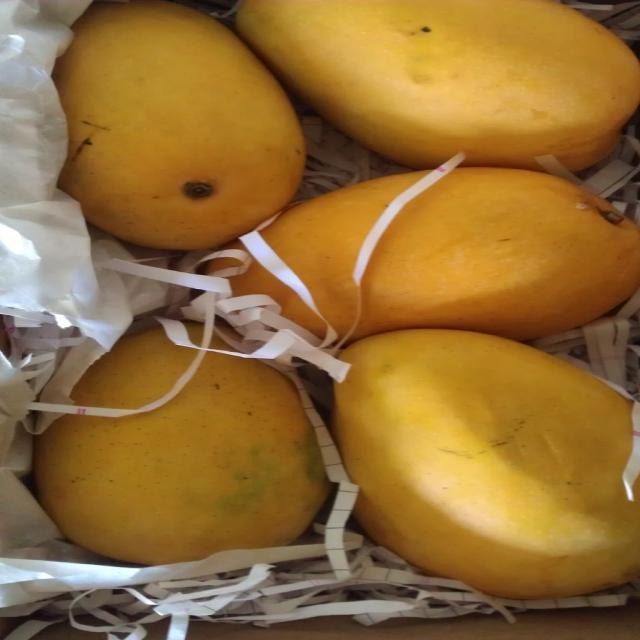Mango: (331, 328, 638, 600), (202, 166, 639, 347), (31, 322, 332, 566), (234, 0, 639, 174), (51, 0, 306, 251)
